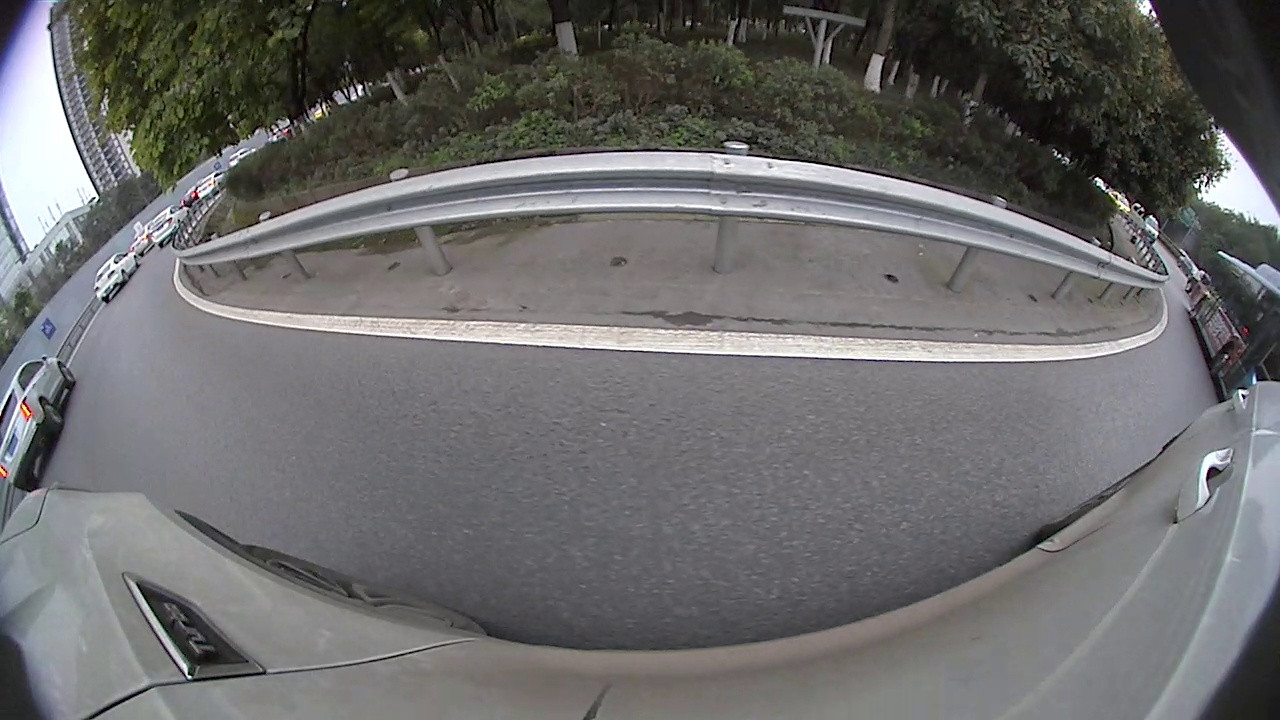bus: (1183, 243, 1278, 398)
car: (1, 352, 78, 495), (91, 247, 139, 306), (143, 203, 192, 247), (1123, 201, 1166, 242)
front: (1210, 342, 1234, 375), (59, 361, 77, 386)
rear: (39, 401, 65, 430), (1187, 297, 1207, 321), (120, 268, 130, 283)
